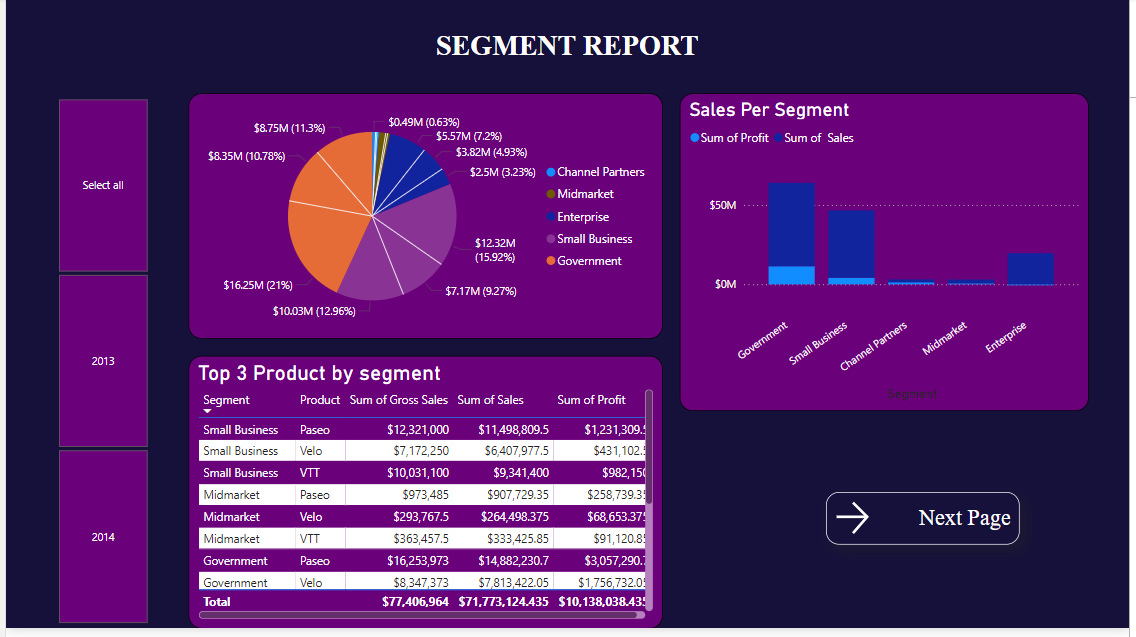

What the dashboard file says about the page in this screenshot:
{"tool":"powerbi","page":{"name":"Segment Report","canvas":[1280,720],"ordinal":1},"visuals":[{"type":"tableEx","title":"Top 3 Product by segment","fields":{"Values":["financials.Segment","financials.Product","Sum(financials.Gross Sales)","Sum(financials. Sales)","Sum(financials.Profit)"]},"box":[208.1,409.1,560.2,310.7],"z":0},{"type":"slicer","fields":{"Values":["financials.Year"]},"box":[34.3,109.8,150.9,610.6],"z":1000},{"type":"textbox","box":[478.9,31.6,322.5,54.9],"z":2000},{"type":"columnChart","title":"Sales Per Segment","fields":{"Category":["financials.Segment"],"Y":["Sum(financials.Profit)","Sum(financials. Sales)"]},"box":[789.7,109.8,466.1,362],"z":3000},{"type":"pieChart","title":"Top 3 Product by segment","fields":{"Category":["financials.Segment"],"Series":["financials.Product"],"Y":["Sum(financials.Gross Sales)"]},"box":[208.1,109.8,560.2,279.4],"z":4000},{"type":"actionButton","box":[935.1,564.5,220.9,59.9],"z":5000}]}

Visuals, with their boxes in screenshot pixels (x1, y1, x2, y2), scaled from the page's 1280x720 canvas onto the 1136x637 screenshot:
"Top 3 Product by segment" tableEx: <box>185,362,682,636</box>
slicer - financials.Year: <box>30,97,164,636</box>
textbox: <box>425,28,711,77</box>
"Sales Per Segment" columnChart: <box>701,97,1115,417</box>
"Top 3 Product by segment" pieChart: <box>185,97,682,344</box>
actionButton: <box>830,499,1026,552</box>
